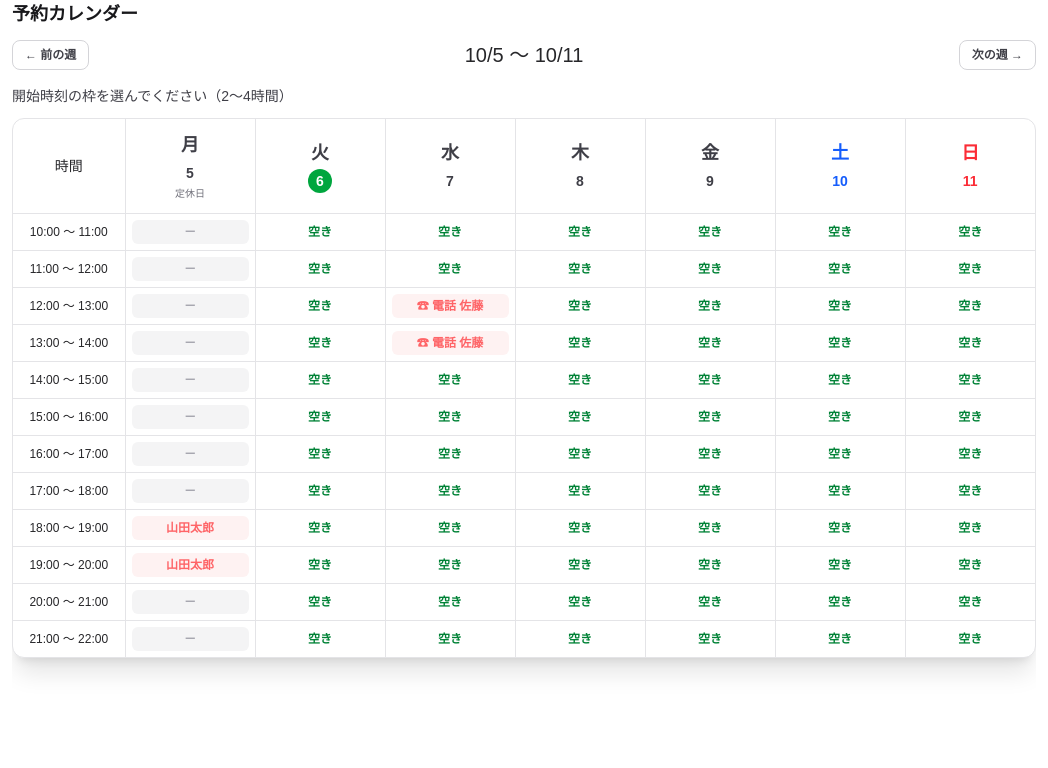
Test case: 次の週には制限なく進める。前の週は、保持期間より前の日が出たら戻れない
The width and height of the screenshot is (1048, 768).
expect the button "次の週 →" is enabled: met, box [959,40,1036,70]
Click the button "← 前の週" at (51, 55), box [12,40,89,70]
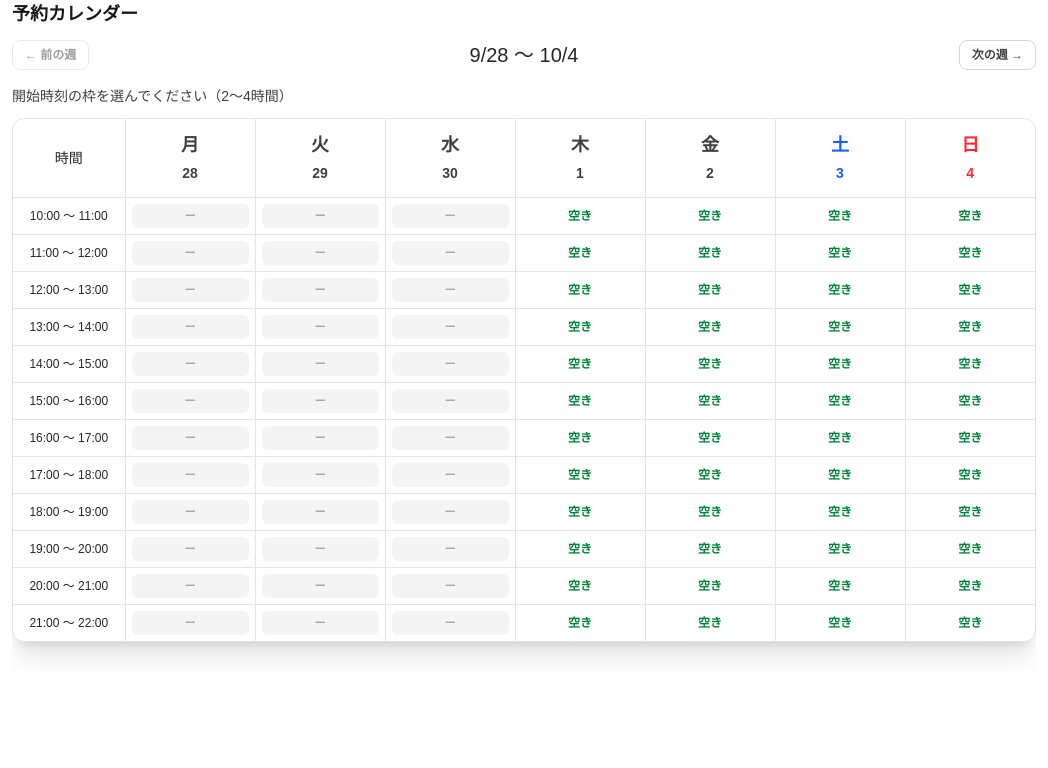
expect the text "9/28 〜 10/4" is shown: met, box [470,41,578,69]
expect the button "← 前の週" is disabled: met, box [12,40,89,70]
